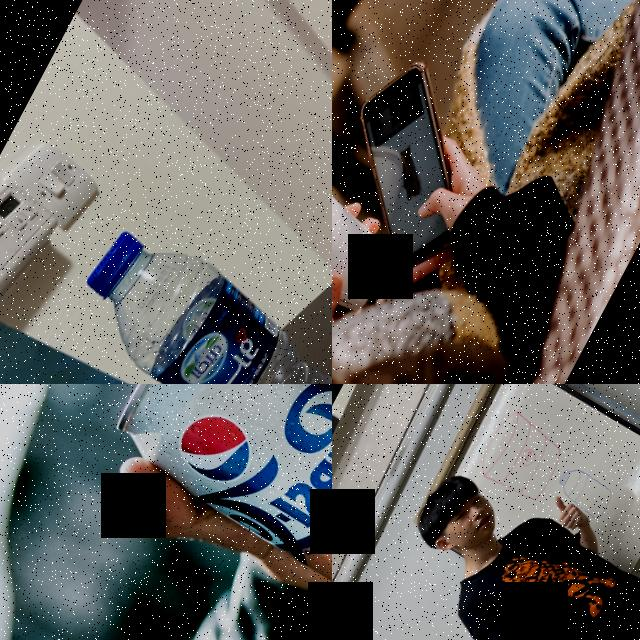bottle: (35, 209, 332, 384)
can: (90, 384, 332, 634)
cup: (332, 163, 412, 334)
